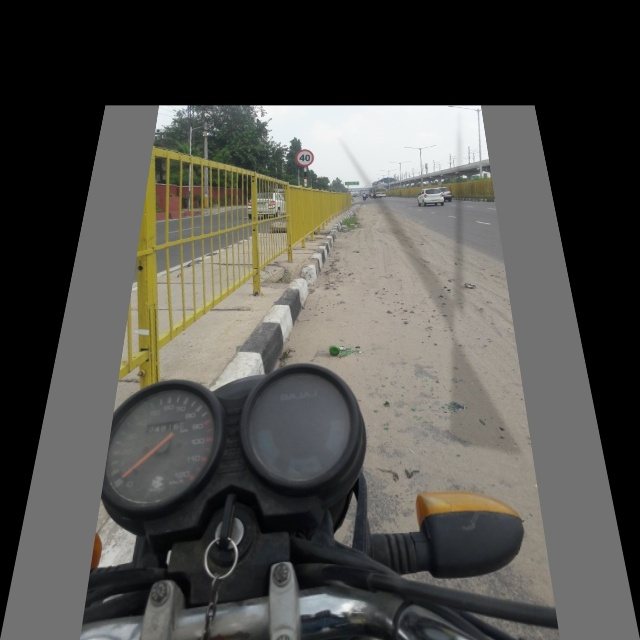Speed_Limit_40: (292, 147, 317, 168)
